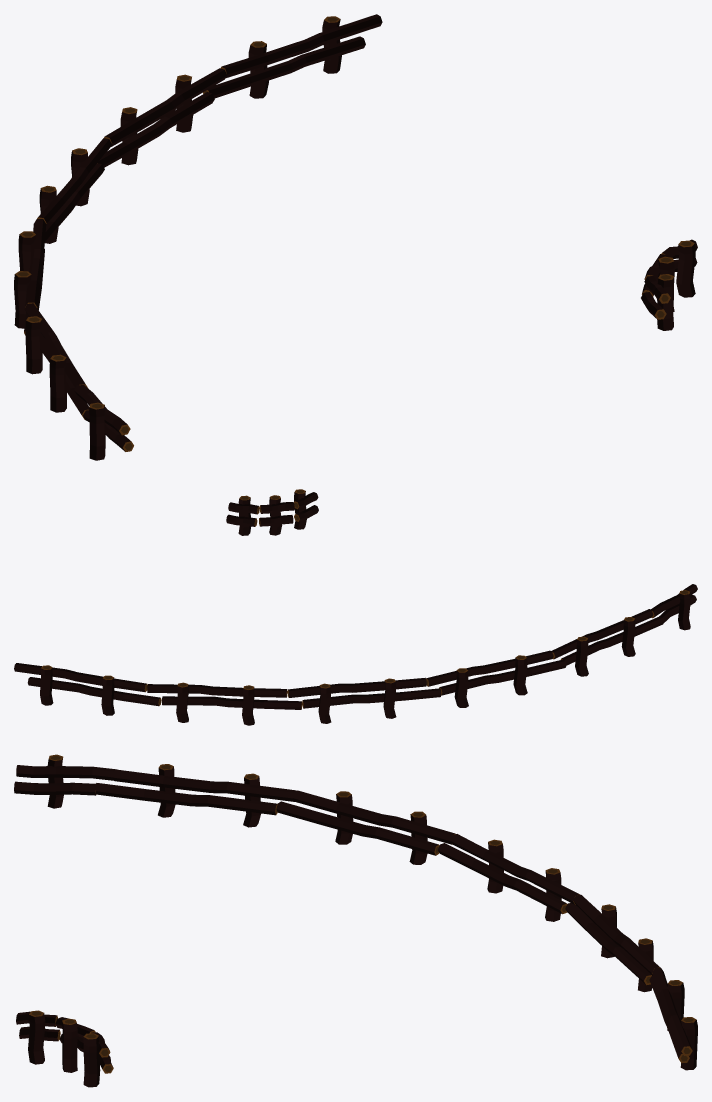
The model's file is rail90_1.fbx.
3 renders of one model, top to bottom at view 1: azimuth 30°, elevation 25°; view 2: azimuth 150°, elevation 25°; view 3: azimuth 270°, elevation 25°, orthographic. The views are drawn at different scales.
Visible parts, largest first — view 1: rail90_1_1, rail90_2_1; view 2: rail90_1_1, rail90_2_1; view 3: rail90_1_1, rail90_2_1.
Part boxes in pixels (bbox=[...]): rail90_1_1: bbox=[14, 14, 382, 460]; rail90_2_1: bbox=[641, 239, 697, 330]; rail90_1_1: bbox=[14, 584, 697, 725]; rail90_2_1: bbox=[226, 489, 318, 535]; rail90_1_1: bbox=[14, 754, 697, 1070]; rail90_2_1: bbox=[16, 1010, 113, 1087].
Bounding box in the file's own units: 899 × 897 × 68.87.
